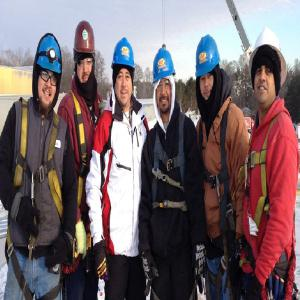blue: (34, 32, 62, 113), (112, 36, 136, 110), (196, 34, 220, 104), (154, 46, 175, 115)
red: (73, 18, 97, 89)
white: (251, 30, 283, 112)
